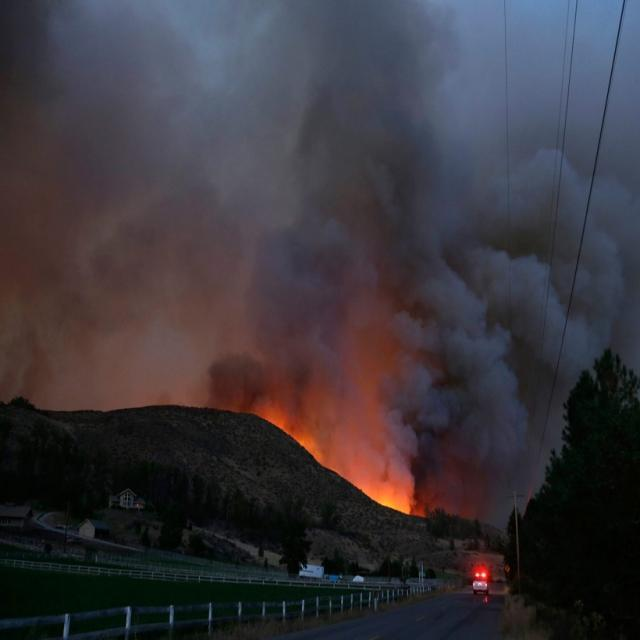Smoke: (0, 0, 629, 506)
